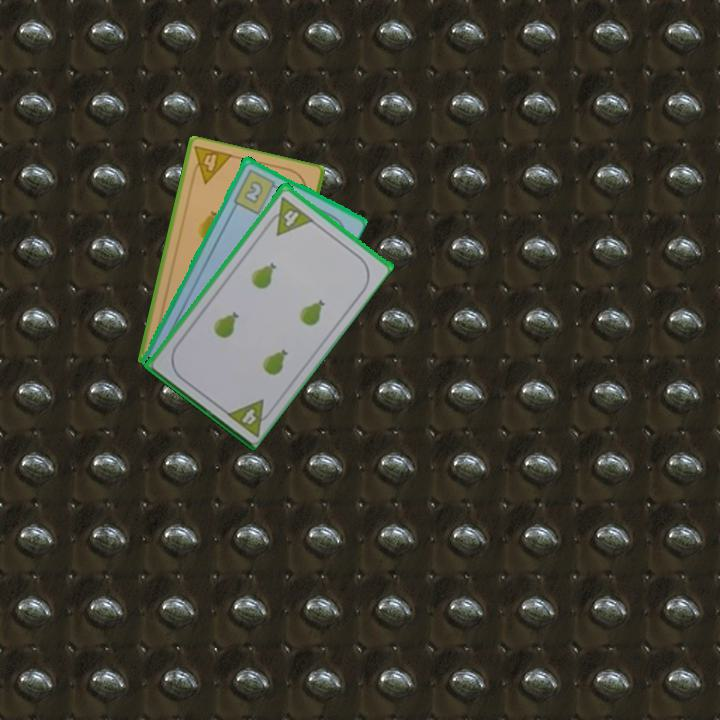2b: (230, 165, 283, 216)
4p: (222, 395, 277, 439), (263, 193, 315, 238), (187, 143, 235, 187)
